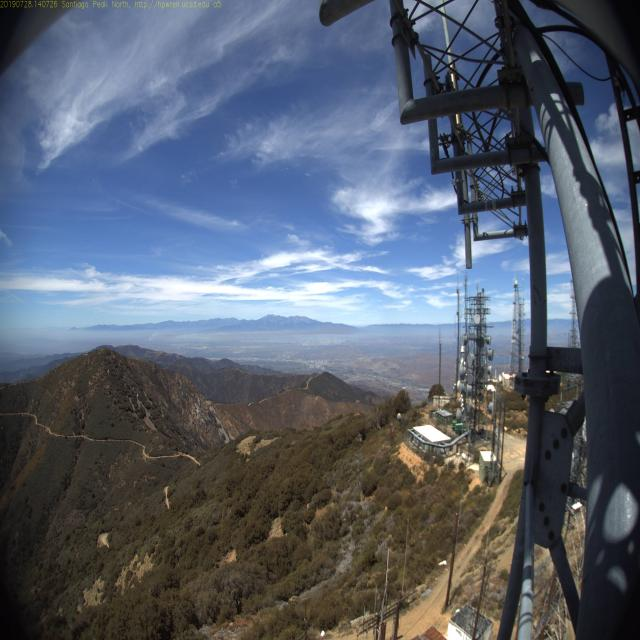smoke: (143, 327, 166, 350)
